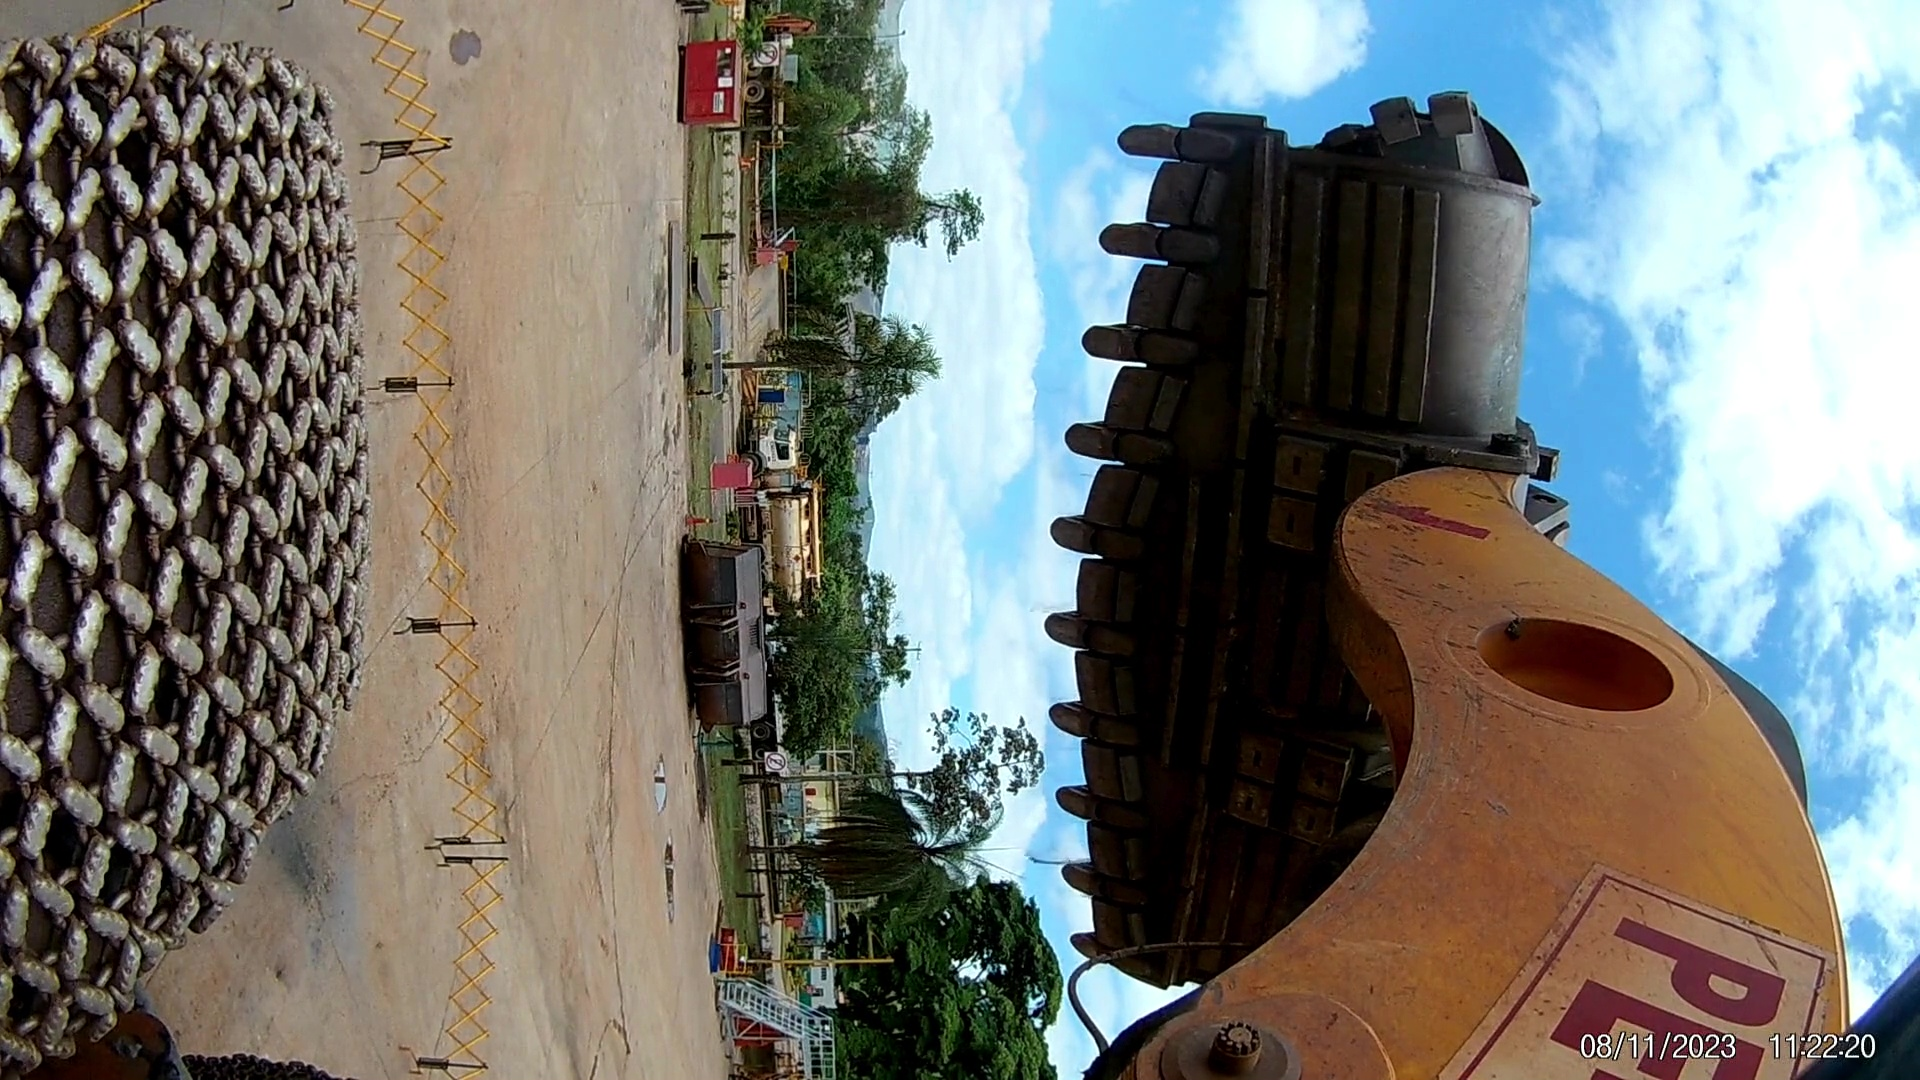FPS: (1077, 105, 1249, 181), (1073, 303, 1232, 376), (1047, 411, 1189, 476), (1083, 218, 1230, 276), (1023, 607, 1145, 674), (1033, 855, 1151, 916), (1047, 700, 1137, 760), (1035, 517, 1139, 564), (1068, 928, 1147, 984), (1044, 795, 1149, 836)
